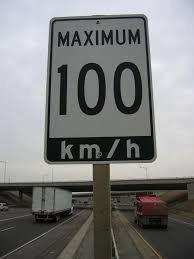speed limit sign: (46, 17, 158, 162)
